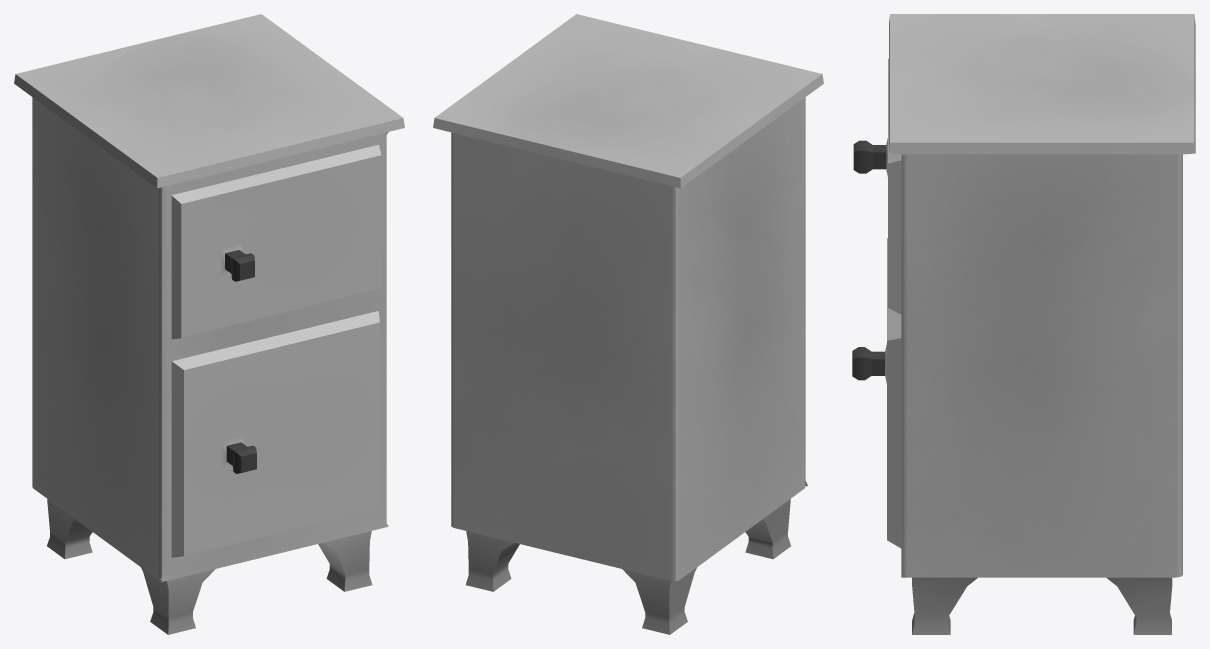
Rendered from IceBox.fbx.
The picture shows the model from 3 angles, left to right: view 1: azimuth 30°, elevation 25°; view 2: azimuth 150°, elevation 25°; view 3: azimuth 270°, elevation 25°; orthographic projection. The views are drawn at different scales.
Visible parts, largest first — view 1: icedbox; view 2: icedbox; view 3: icedbox.
Part boxes in pixels (x1,y1,x2,y2): icedbox: (14, 14, 404, 634); icedbox: (433, 14, 823, 634); icedbox: (852, 14, 1195, 634).
Size of the model in its own units: 1.09 by 1.97 by 1.22.
